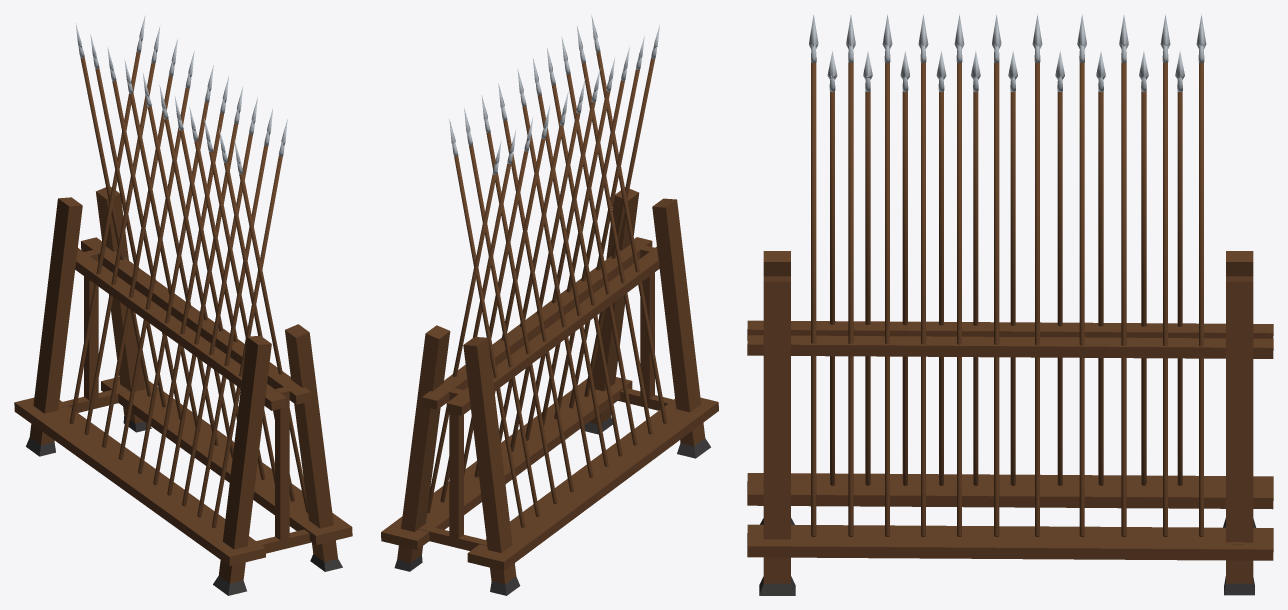
Rendered from Schwert Ständer mit Speeren.fbx.
The picture shows the model from 3 angles, left to right: view 1: azimuth 30°, elevation 25°; view 2: azimuth 150°, elevation 25°; view 3: azimuth 270°, elevation 25°; orthographic projection. The views are drawn at different scales.
Parts seen in each view (by area): view 1: Schwert Ständer mit Speeren Ver 1; view 2: Schwert Ständer mit Speeren Ver 1; view 3: Schwert Ständer mit Speeren Ver 1.
Part boxes in pixels (x1,y1,x2,y2): Schwert Ständer mit Speeren Ver 1: [14, 15, 352, 595]; Schwert Ständer mit Speeren Ver 1: [381, 14, 718, 595]; Schwert Ständer mit Speeren Ver 1: [747, 14, 1273, 595].
Bounding box in the file's own units: 73.1 × 247 × 222.
